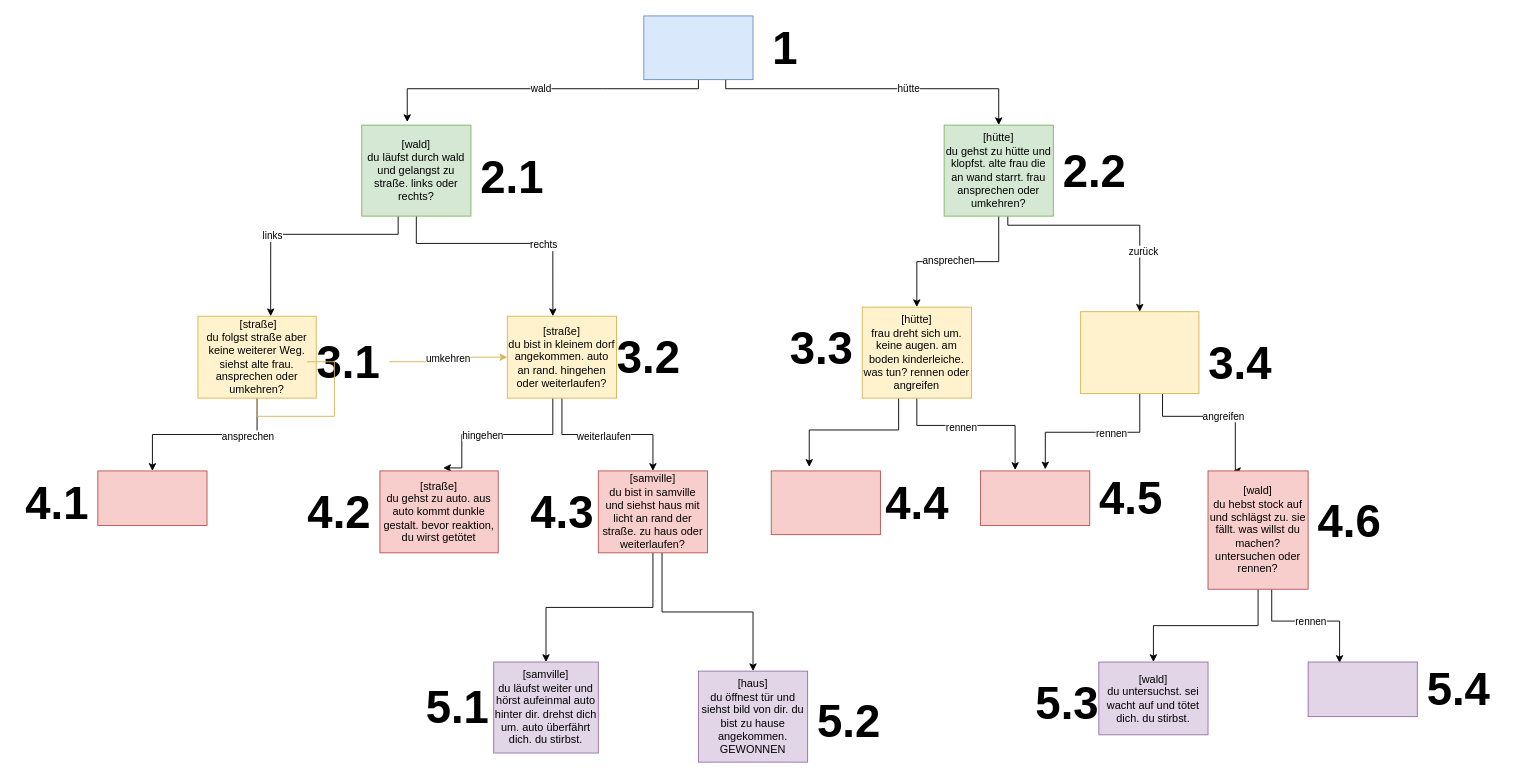
Some shapes in this 1514 by 778 pixel diagram are drawn without their labels. The centre of each missing label's shape, as x and y in pixels:
[hütte] du greifst an. sie weicht aus und greift an. du stirbst: [825,502]
[straße] frau greift dich an. du stirbst.: [152,498]
[Wald] du bist in wald. wald oder hütte erkunden?: [698,47]
[wald] du kehrst zurück. hörst hinter dir kreischen. rennen oder angreifen?: [1139,352]
[wald] du rennst und hast überlebt. GEWONNEN: [1362,689]
[wald] du rennst und stolperst. frau greift an. du stirbst.: [1035,498]
